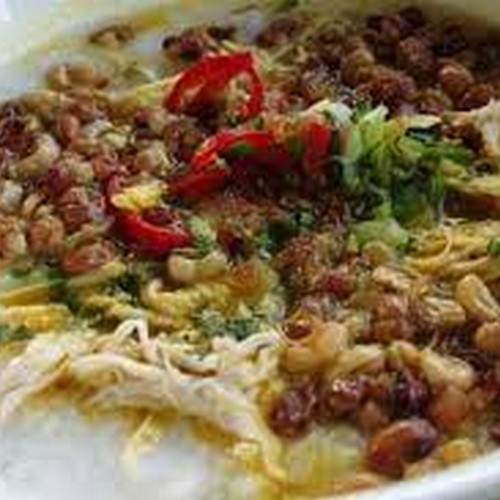bubur mengguh: (21, 11, 486, 465)
